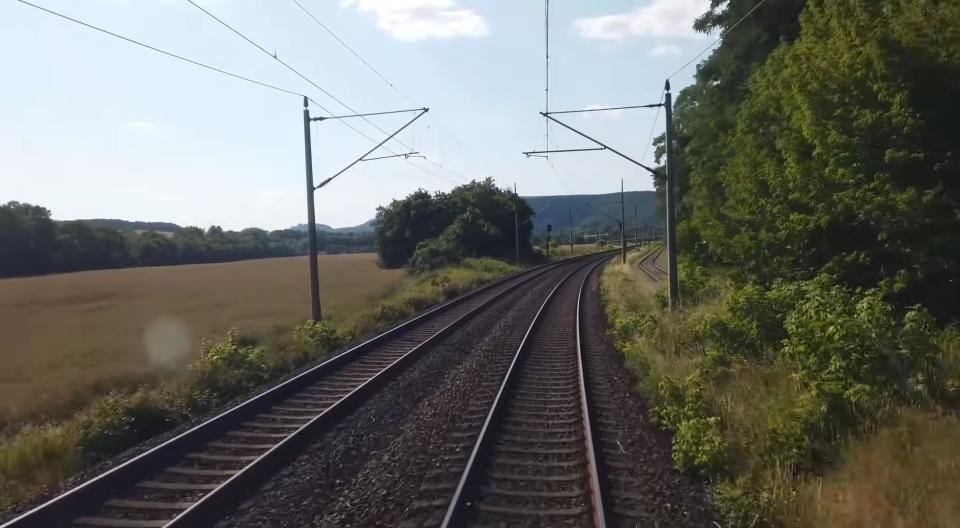Plant: (600, 264, 820, 528)
